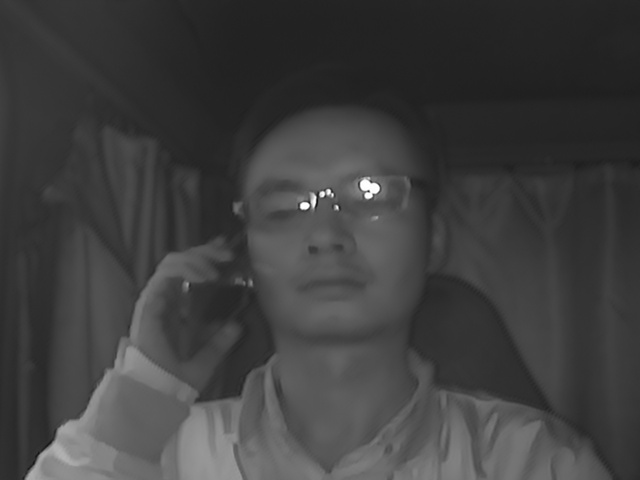hand: (131, 235, 239, 388)
